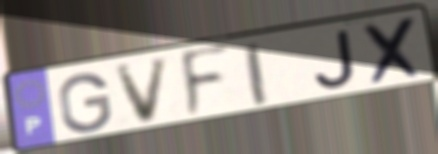F: (177, 41, 234, 123)
G: (56, 71, 114, 135)
I: (241, 40, 271, 109)
J: (312, 27, 358, 92)
V: (112, 54, 174, 128)
X: (360, 14, 427, 89)
